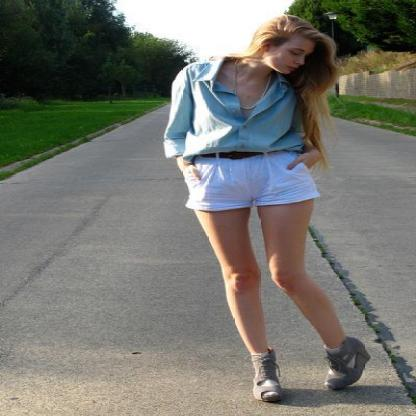shirt: (162, 51, 302, 165)
shoe: (238, 336, 369, 404)
shorts: (177, 153, 319, 224)
